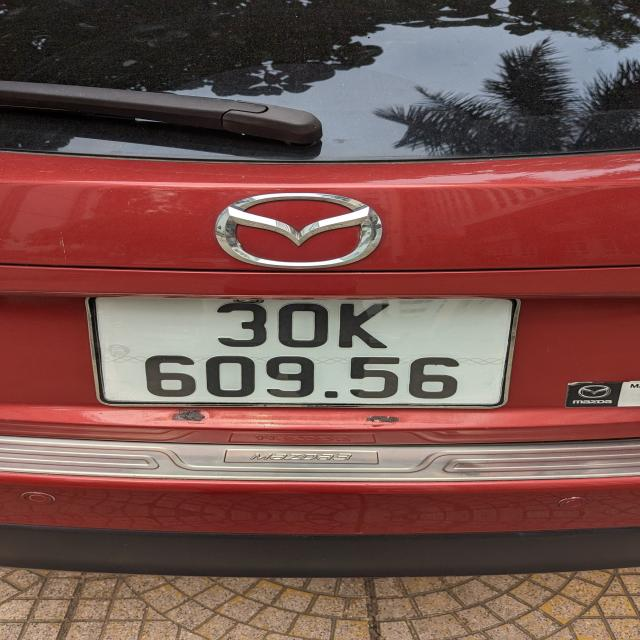License: (87, 296, 521, 408)
